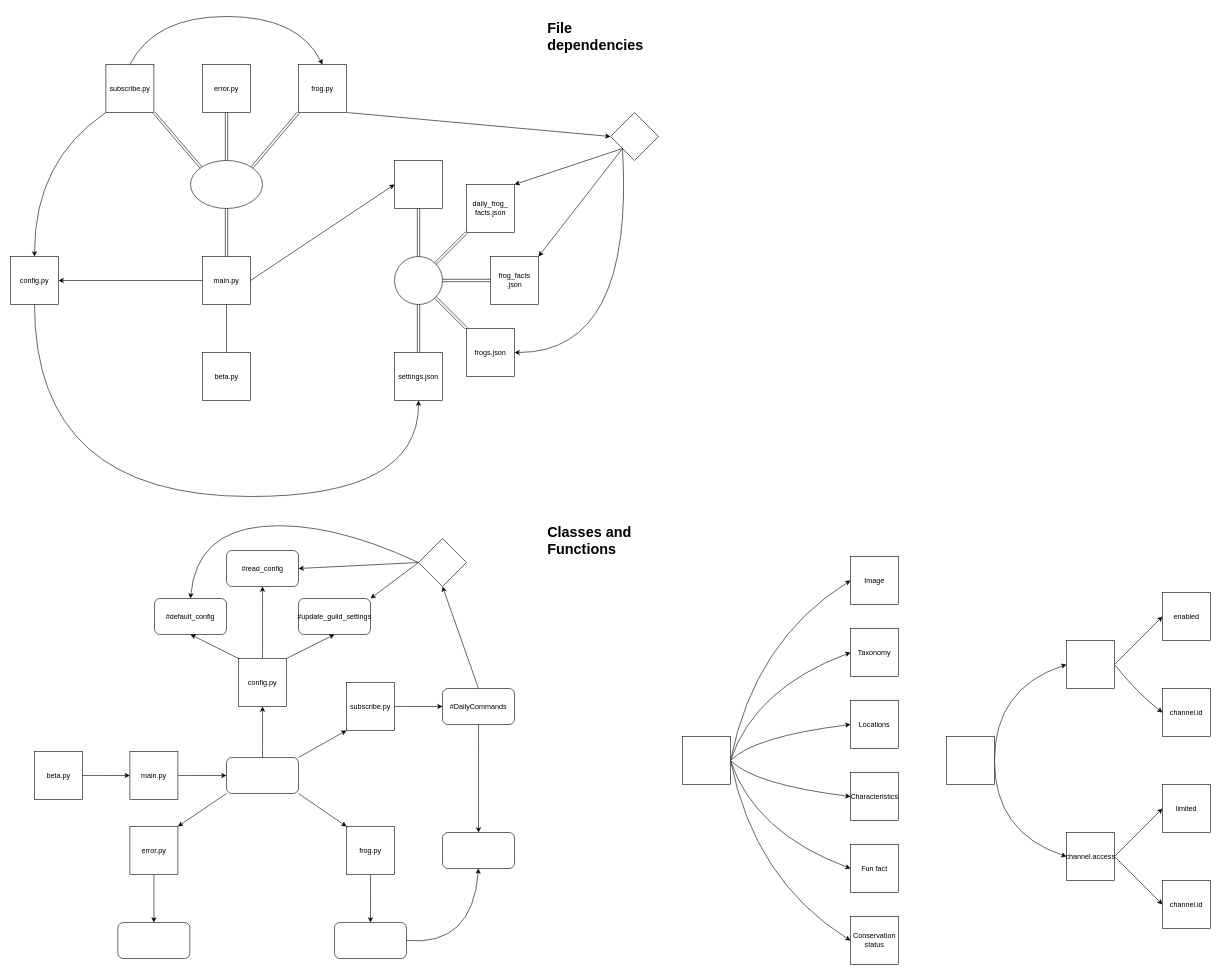
The diagram is 1221 pixels wide and 975 high, and some of its shapes have lost their labels. Here are the shapes that lost their labels. From the top down, the centre of each, then its label:
At [634,136]: "frog.py links".
At [226,184]: "cogs".
At [418,184]: ".env".
At [418,280]: "resources".
At [442,562]: "Daily Commands Links".
At [1090,664]: "subscribe.daily".
At [262,775]: "#GrenouilleBot".
At [706,760]: "Specie".
At [970,760]: "guild.id".
At [478,850]: "#FrogMessages".
At [153,940]: "#CommandErrors".
At [370,940]: "#FrogCommands".
